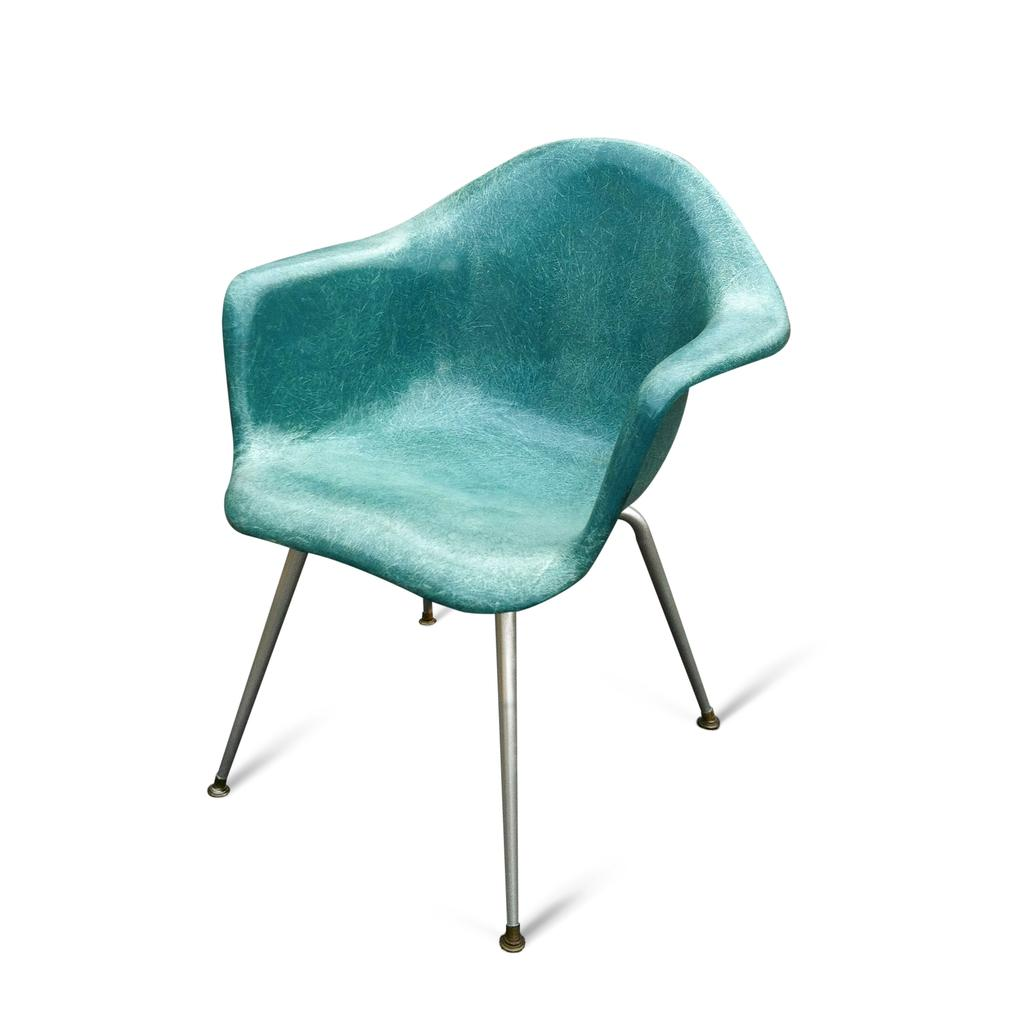Chair: (202, 127, 789, 950)
